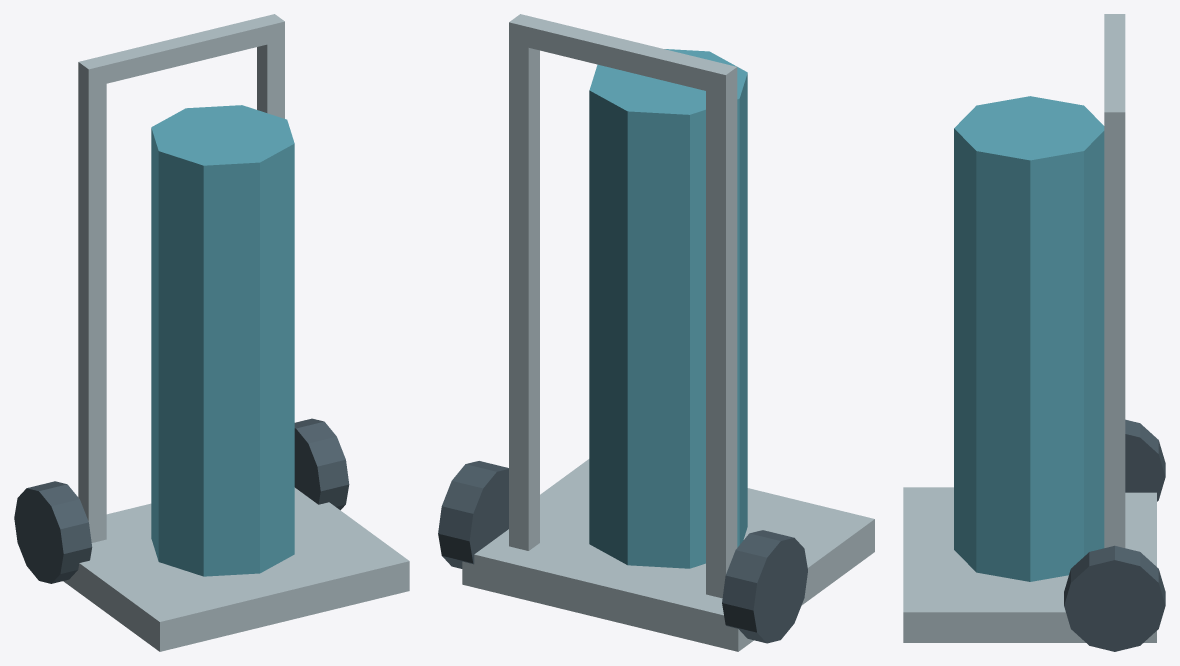
File: cylinder-transport-trolley.glb
The picture shows the model from 3 angles, left to right: view 1: azimuth 30°, elevation 25°; view 2: azimuth 150°, elevation 25°; view 3: azimuth 270°, elevation 25°; orthographic projection. The views are drawn at different scales.
Visible parts, largest first — view 1: blue, steel, dark; view 2: steel, blue, dark; view 3: blue, steel, dark.
Part boxes in pixels (x1,y1,x2,y2): blue: (151,105,294,576); steel: (63,14,409,651); dark: (14,418,349,583); steel: (462,14,874,651); blue: (589,49,747,568); dark: (438,461,807,643); blue: (954,96,1104,581); steel: (903,14,1156,642); dark: (1064,419,1165,651).
Bounding box in the file's own units: 0.8 × 1.35 × 0.6199.
